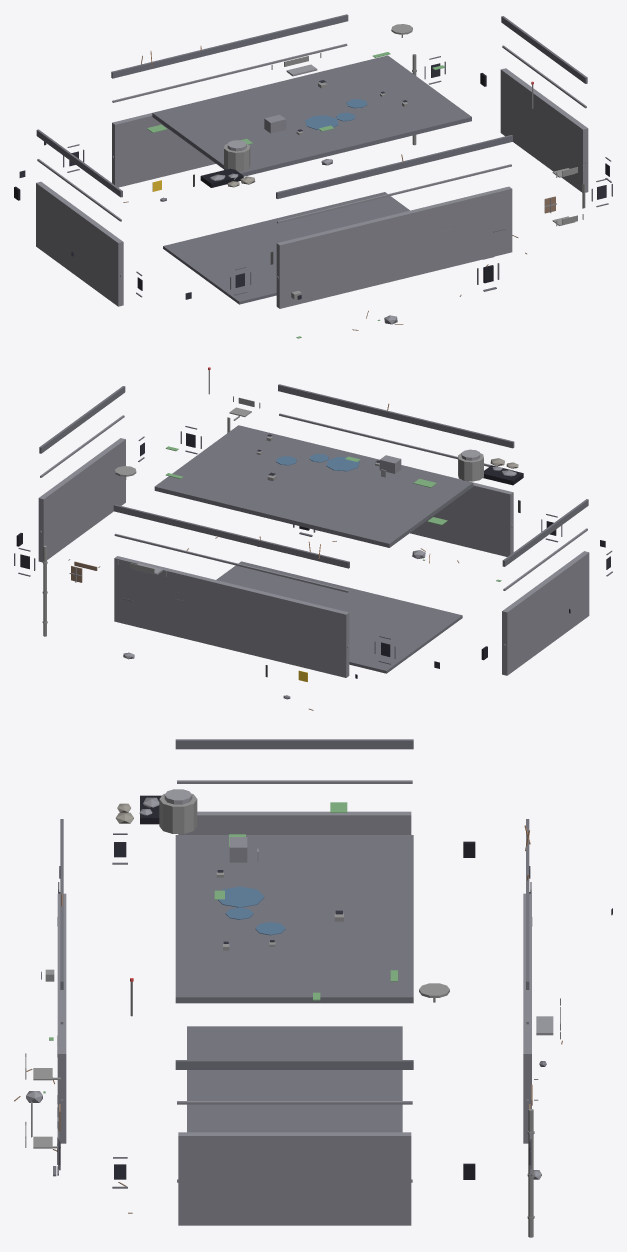
File: building_top_left.glb
3 renders of one model, top to bottom at view 1: azimuth 30°, elevation 25°; view 2: azimuth 150°, elevation 25°; view 3: azimuth 270°, elevation 25°, orthographic. The views are drawn at different scales.
Parts seen in each view (by area): view 1: BuildingMesh; view 2: BuildingMesh; view 3: BuildingMesh.
Boxes of the visible parts, x1,y1,x2,y2 form: BuildingMesh: [14, 14, 612, 338]; BuildingMesh: [14, 367, 612, 710]; BuildingMesh: [14, 739, 612, 1237].
Bounding box in the file's own units: 9.17 × 3.15 × 6.95.
